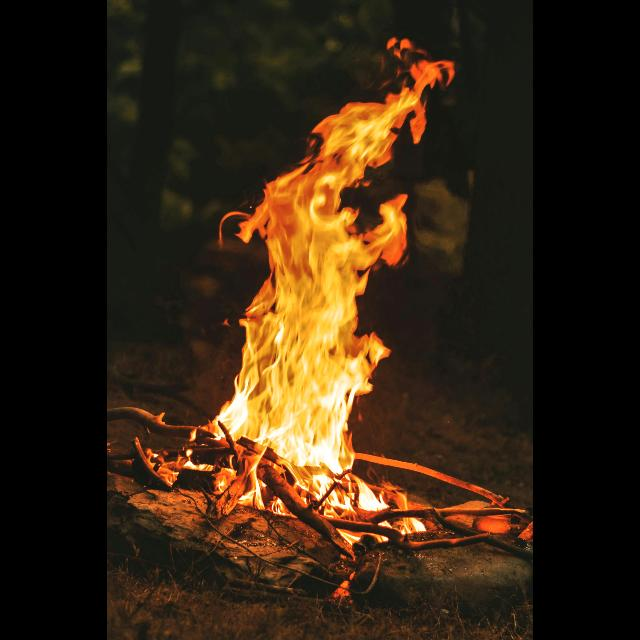fire: (219, 40, 454, 475)
